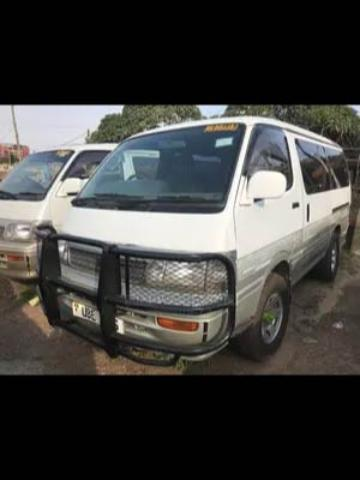van: (30, 114, 348, 363)
